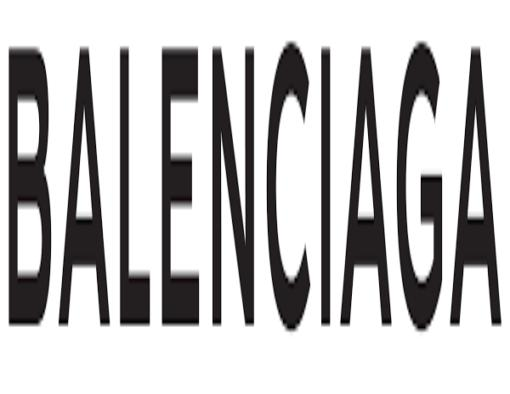BALENCIAGA: (3, 31, 504, 340)
